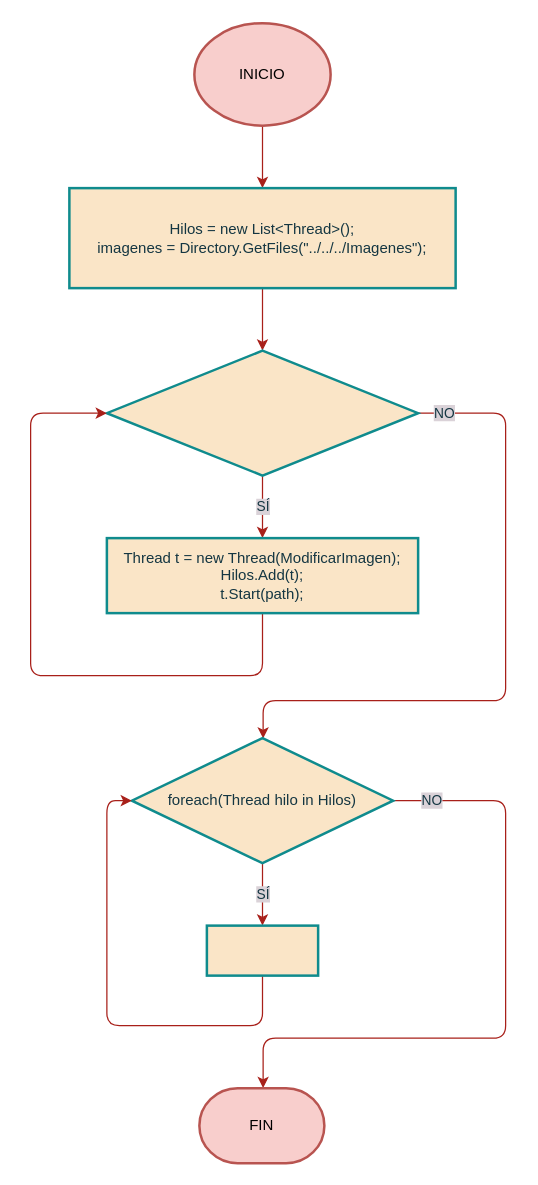
Image size: 538x1185. Some labels were removed from this diagram. The centre of each missing label's shape, as x and y in pixels:
foreach(string path in imagenes): point 262,412
hilo.Join();: point 262,950
